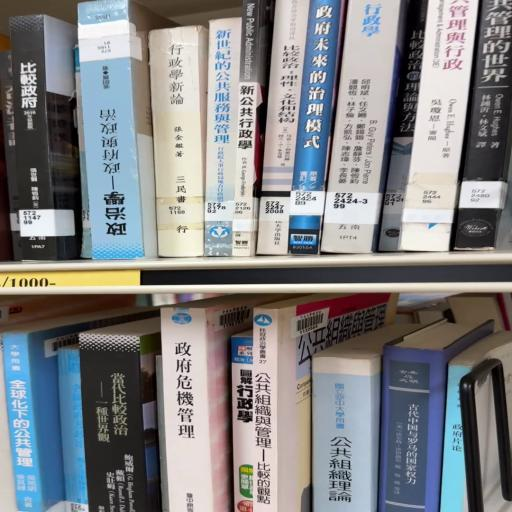reverse: (79, 1, 171, 260)
